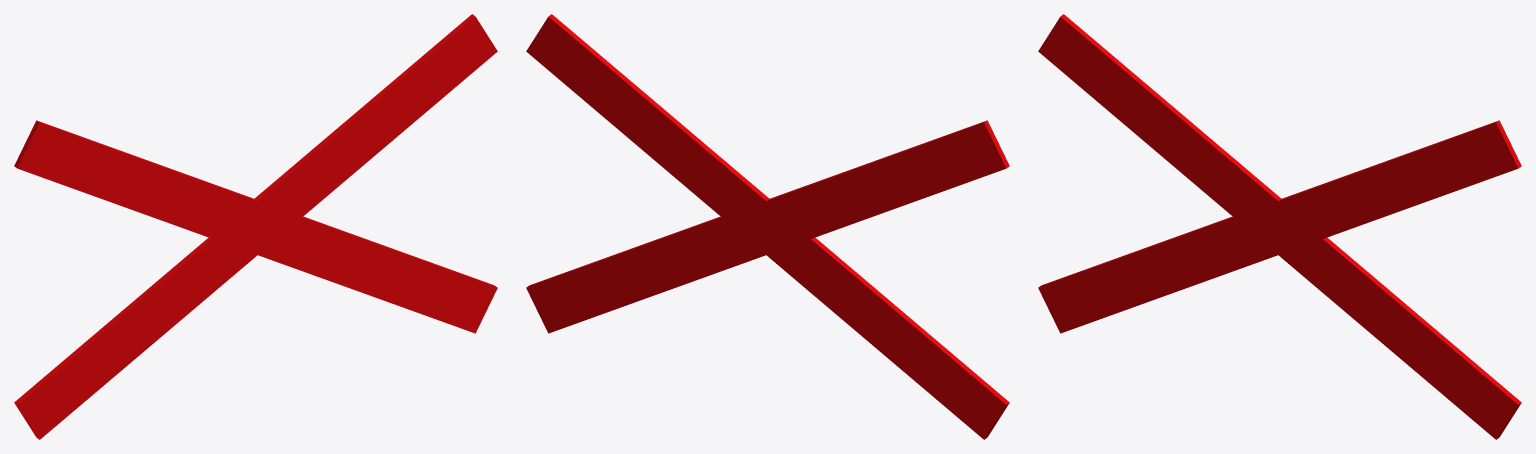
The picture shows the model from 3 angles, left to right: view 1: azimuth 30°, elevation 25°; view 2: azimuth 150°, elevation 25°; view 3: azimuth 330°, elevation 25°; orthographic projection.
Parts seen in each view (by area): view 1: Cube.001; view 2: Cube.001; view 3: Cube.001.
Part boxes in pixels (x1,y1,x2,y2): Cube.001: (14,14,497,439); Cube.001: (526,14,1009,439); Cube.001: (1038,14,1521,439).
Size of the model in its own units: 555 by 350 by 6.82.
